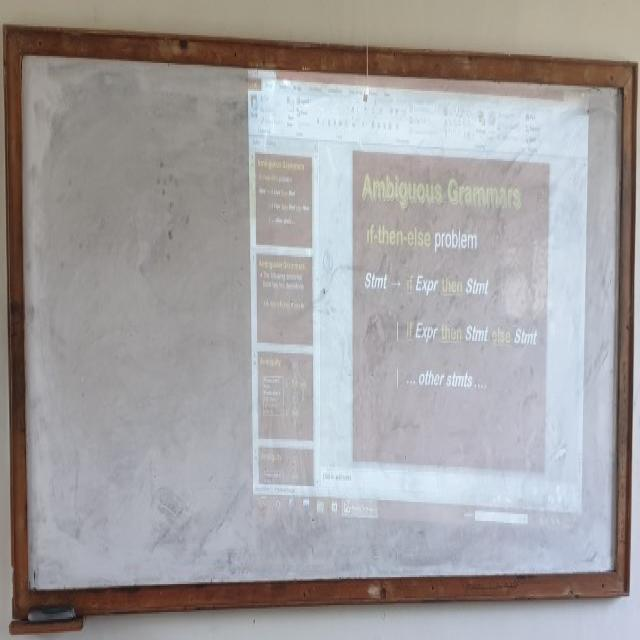Slide: (245, 47, 587, 531)
White-board: (16, 37, 629, 603)
